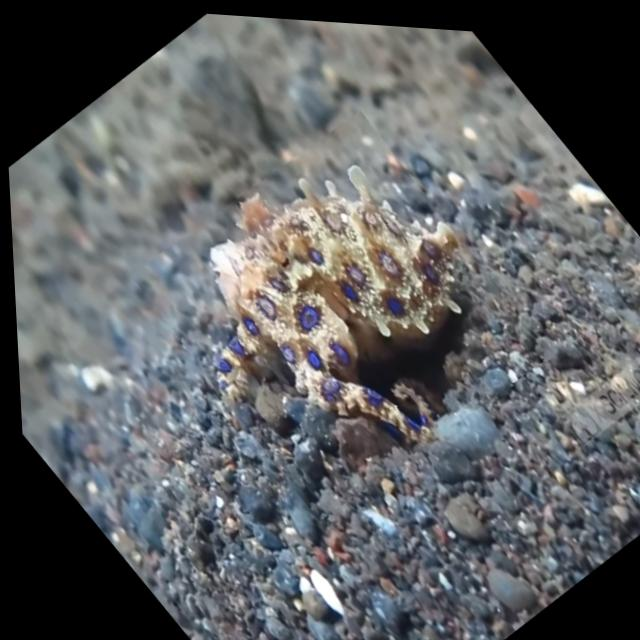blue_ringed_octopus: (116, 88, 558, 534)
